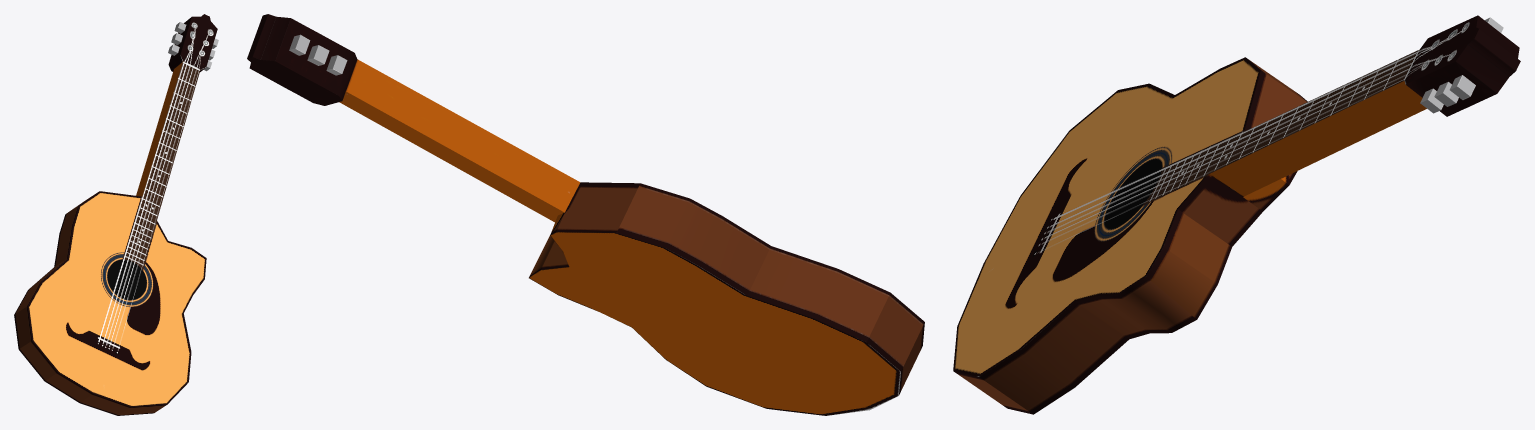
Rendered from Guitarra3_000014.obj.
The picture shows the model from 3 angles, left to right: view 1: azimuth 30°, elevation 25°; view 2: azimuth 150°, elevation 25°; view 3: azimuth 270°, elevation 25°; orthographic projection. The views are drawn at different scales.
Visible parts, largest first — view 1: Guitarra_2:pPlane4; view 2: Guitarra_2:pPlane4; view 3: Guitarra_2:pPlane4.
Part boxes in pixels (x1=…): Guitarra_2:pPlane4: x1=14, y1=14, x2=218, y2=415; Guitarra_2:pPlane4: x1=247, y1=14, x2=924, y2=415; Guitarra_2:pPlane4: x1=953, y1=15, x2=1520, y2=414.
Size of the model in its own units: 9.19 by 8.44 by 7.97.
